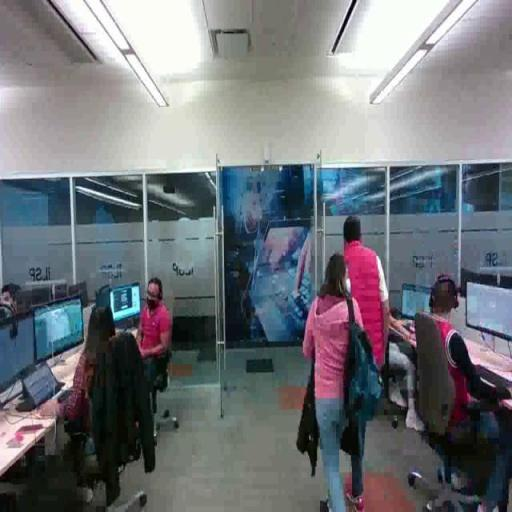person: (304, 253, 364, 512), (343, 219, 392, 512)
